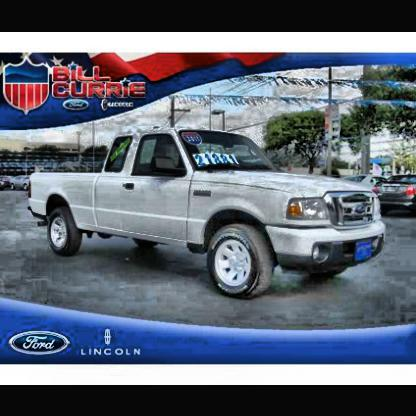Ford Ranger SuperCab 2011: (28, 126, 389, 301)
